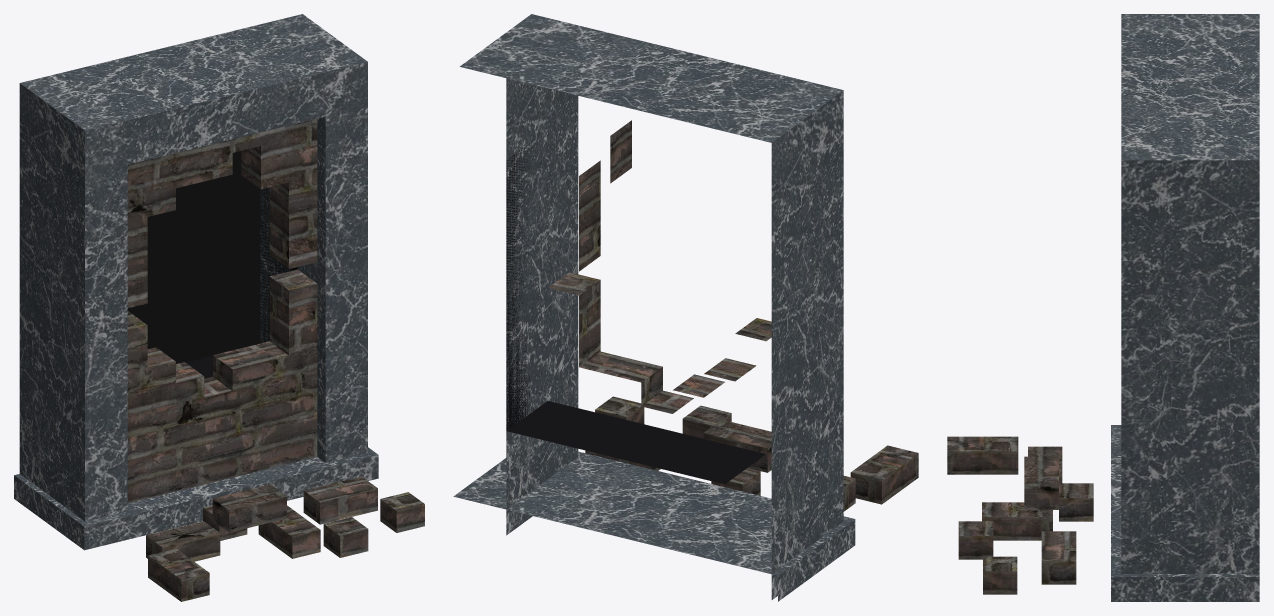
File: bricked-niche-open.6303ea9f.glb
3 renders of one model, left to right at view 1: azimuth 30°, elevation 25°; view 2: azimuth 150°, elevation 25°; view 3: azimuth 270°, elevation 25°, orthographic. The views are drawn at different scales.
Parts seen in each view (by area): view 1: bricked-niche-open; view 2: bricked-niche-open; view 3: bricked-niche-open.
Boxes of the visible parts, x1,y1,x2,y2 form: bricked-niche-open: (14, 14, 424, 601); bricked-niche-open: (453, 14, 918, 601); bricked-niche-open: (947, 14, 1259, 601).
Size of the model in its own units: 1.04 by 1.4 by 0.9025.
3 materials, 2 textured.
